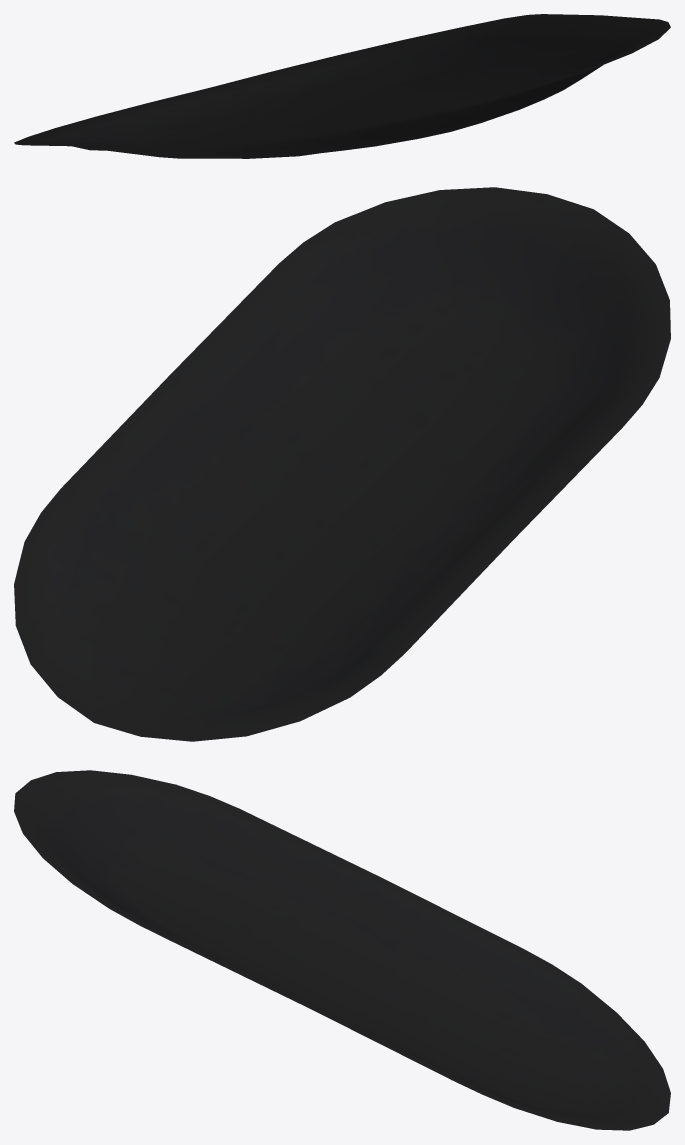
File: trackpad.obj
The picture shows the model from 3 angles, top to bottom: view 1: azimuth 30°, elevation 25°; view 2: azimuth 150°, elevation 25°; view 3: azimuth 270°, elevation 25°; orthographic projection. The views are drawn at different scales.
Parts seen in each view (by area): view 1: l_trackpad_125; view 2: l_trackpad_125; view 3: l_trackpad_125.
Boxes of the visible parts, x1=… form: l_trackpad_125: x1=14, y1=14, x2=670, y2=158; l_trackpad_125: x1=14, y1=187, x2=670, y2=741; l_trackpad_125: x1=14, y1=770, x2=670, y2=1130.
Bounding box in the file's own units: 0.0192 × 0.0117 × 0.0266.
1 material, 1 textured.
